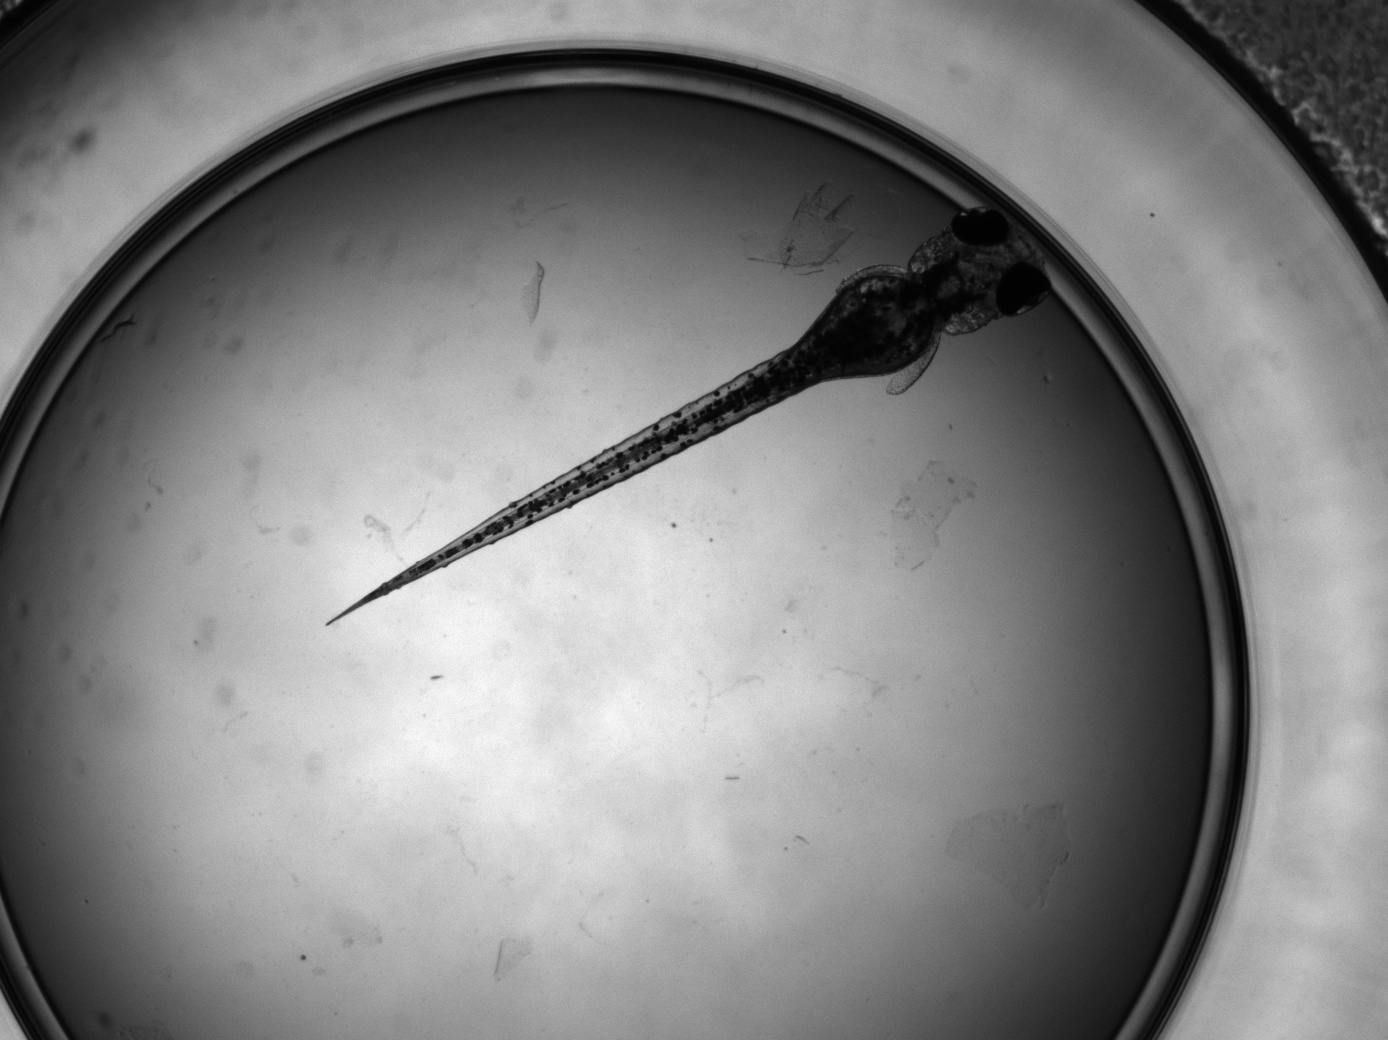debris: (739, 179, 857, 276), (887, 456, 976, 572)
embryo: (327, 206, 1052, 625)
eye: (994, 262, 1053, 316), (950, 206, 1008, 247)
yolksac: (814, 273, 935, 377)
